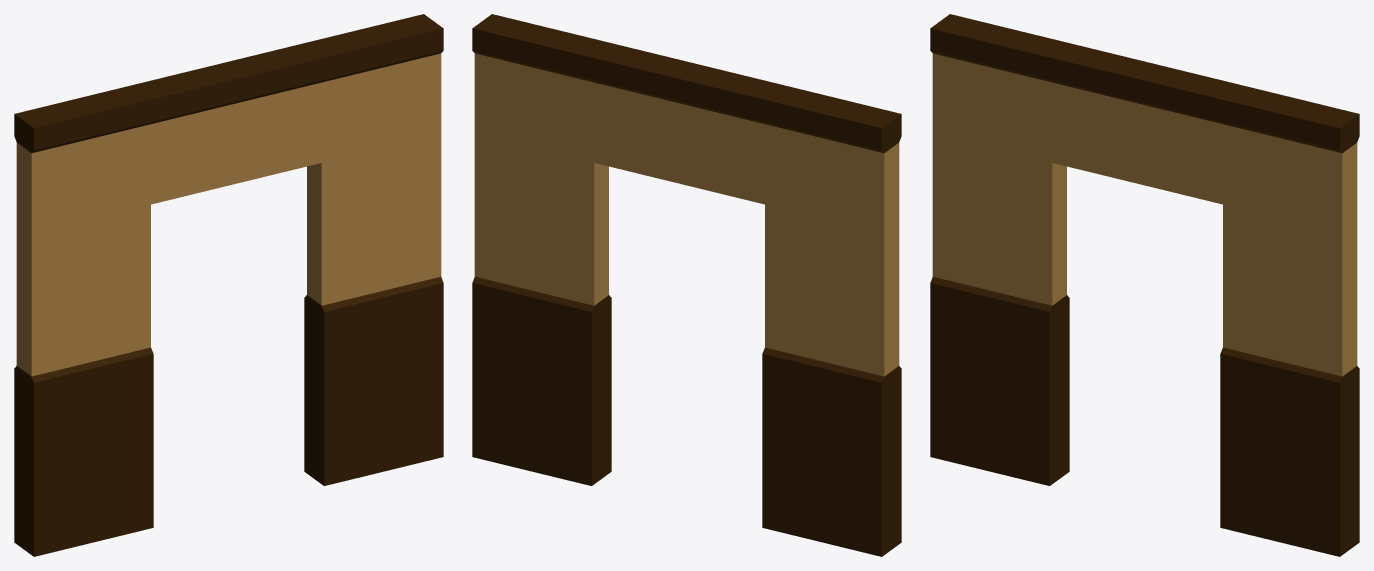
Rendered from Classic_WallDoorFrame_01_snaps001.fbx.
3 renders of one model, left to right at view 1: azimuth 30°, elevation 25°; view 2: azimuth 150°, elevation 25°; view 3: azimuth 330°, elevation 25°, orthographic.
Visible parts, largest first — view 1: Classic_WallDoorFrame_01_snaps001; view 2: Classic_WallDoorFrame_01_snaps001; view 3: Classic_WallDoorFrame_01_snaps001.
Part boxes in pixels (x1,y1,x2,y2): Classic_WallDoorFrame_01_snaps001: [14, 14, 443, 556]; Classic_WallDoorFrame_01_snaps001: [472, 14, 901, 556]; Classic_WallDoorFrame_01_snaps001: [930, 14, 1359, 556].
Bounding box in the file's own units: 300 × 300 × 25.
